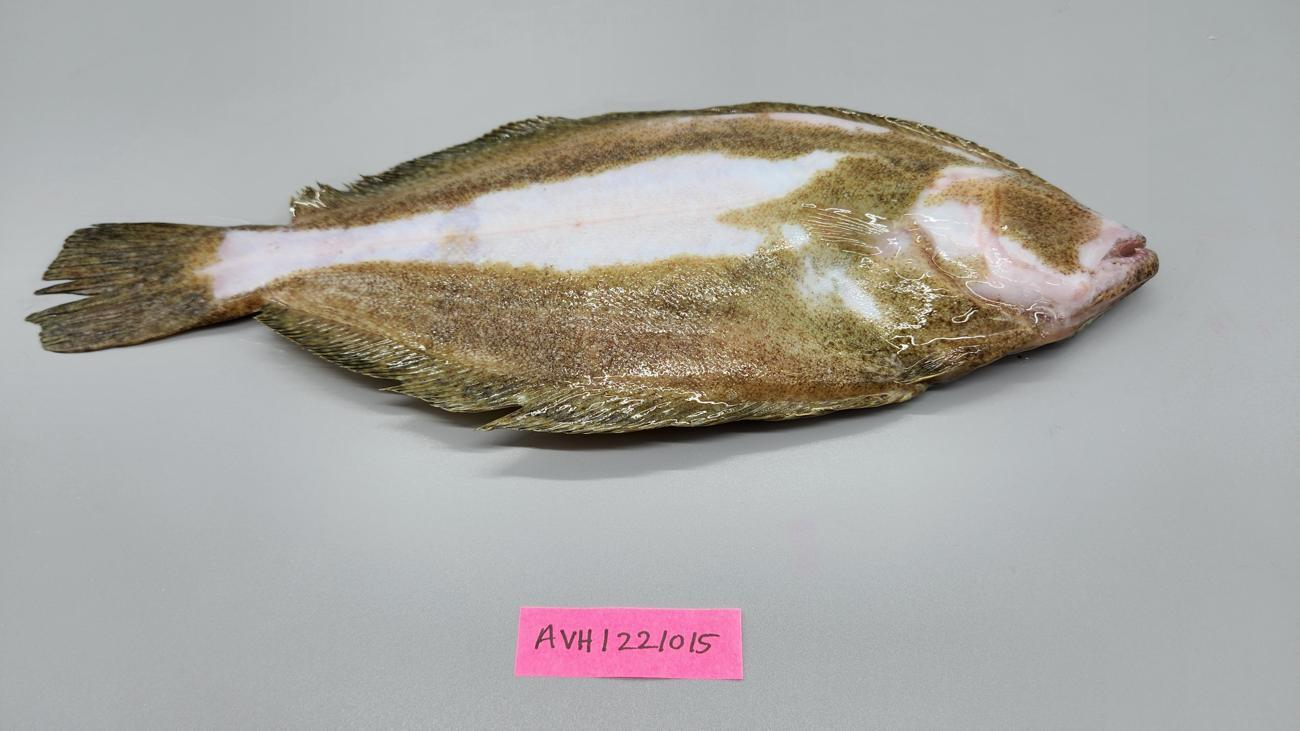VIOUY: (33, 98, 1159, 442)
